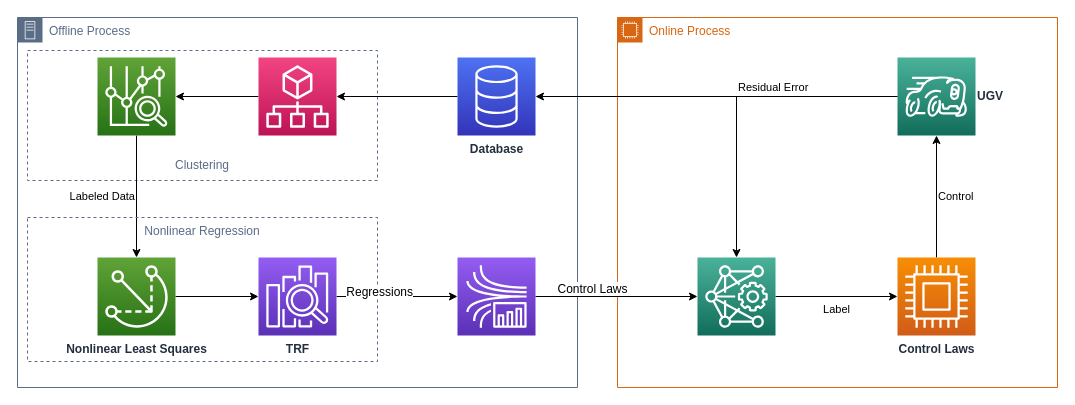
This 1075x405 diagram has some shape labels left out. The centre of each missing label's shape, as x and y in pixels:
"GA" goes at point 496,296.
"LSTM" goes at point 736,296.
"Spectral Clustering" goes at point 297,96.
"Verification" goes at point 136,96.
